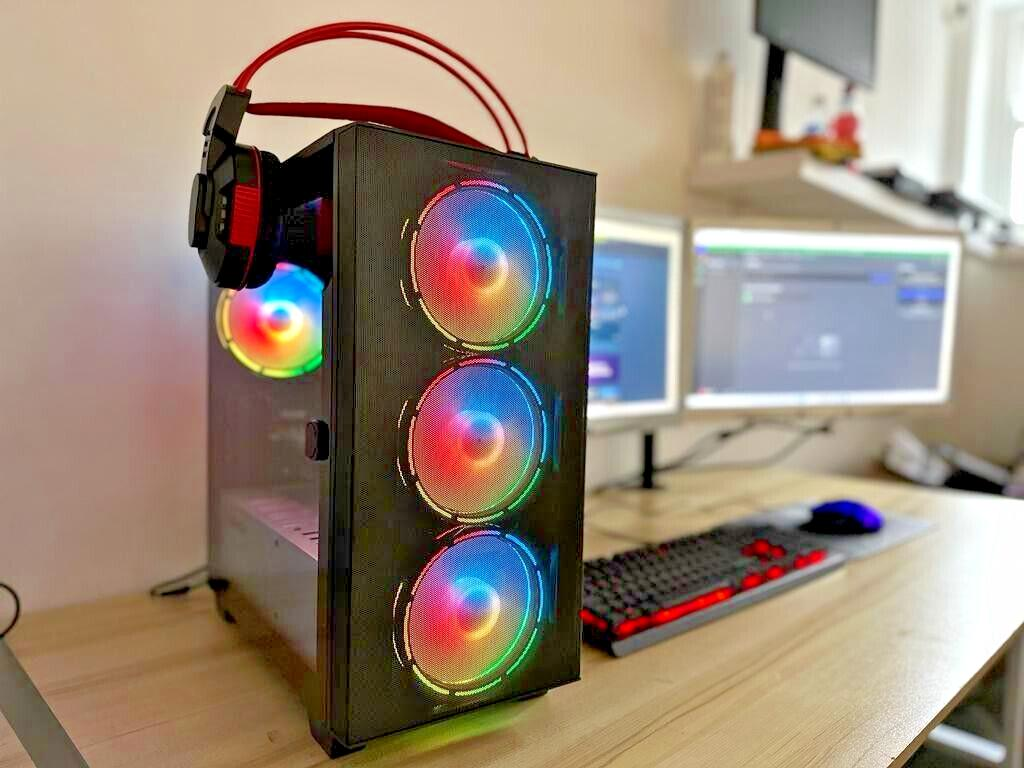DESKTOP PC: (199, 117, 584, 755)
Monitors: (676, 207, 977, 434), (588, 211, 678, 424)
